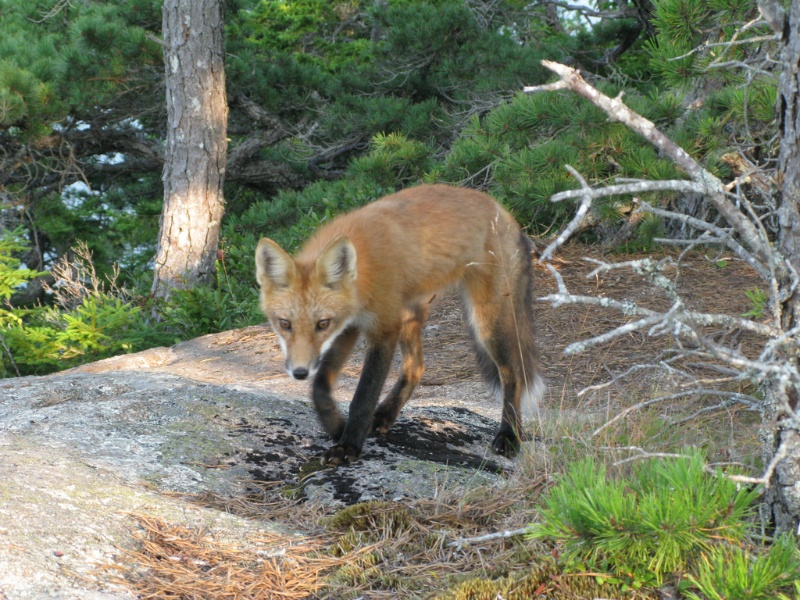fox: (251, 180, 555, 487)
